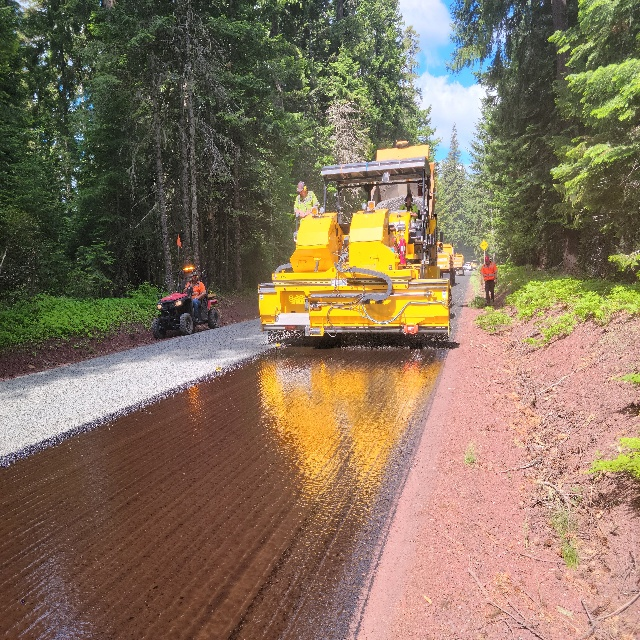Sin_guantes: (299, 210, 305, 219), (305, 210, 311, 217)
